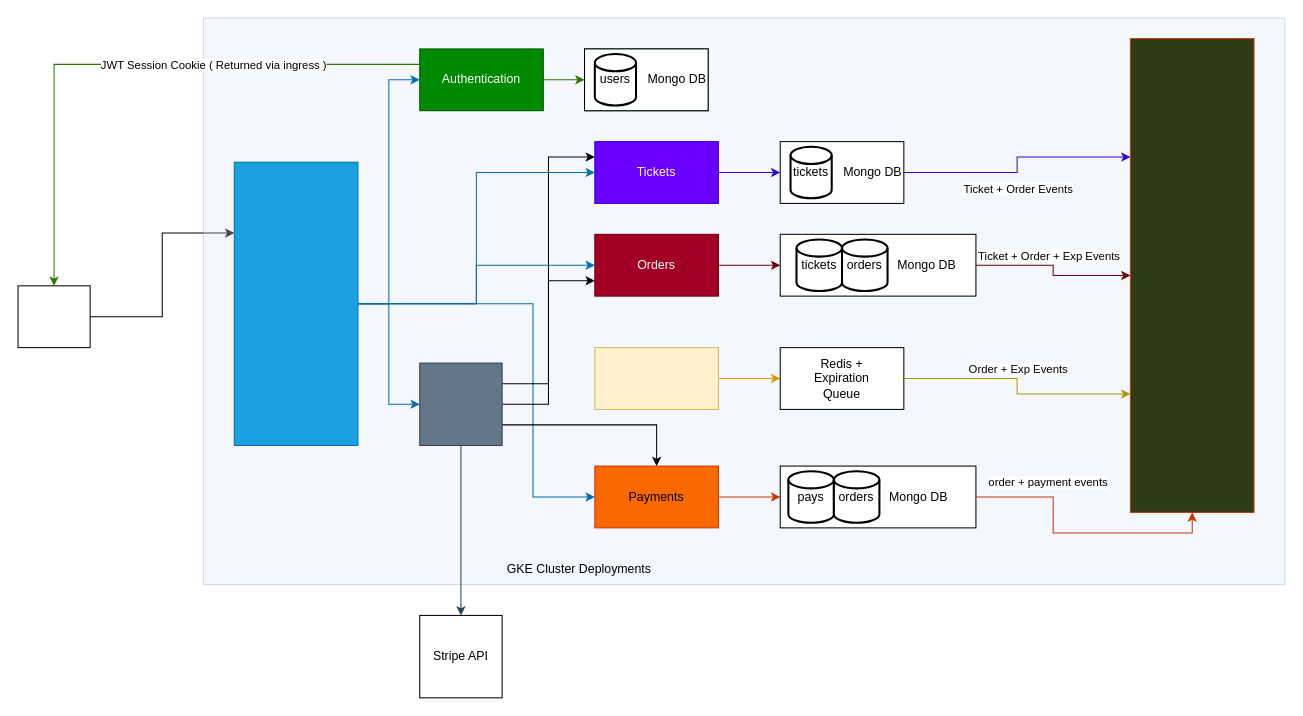
Some shapes in this 1303 by 716 pixel diagram are drawn without their labels. The box of each missing label's shape, as (x1, y1, x2, y2) in pixels:
Client: (17, 285, 90, 348)
Expiration: (594, 347, 718, 409)
Ingress Nginx Controller: (233, 161, 358, 445)
NATs Streaming Server: (1129, 38, 1254, 512)
SSR Client: (419, 362, 502, 445)
